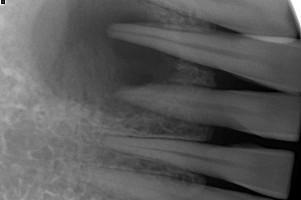Furcation Involvement: (29, 0, 179, 117)
